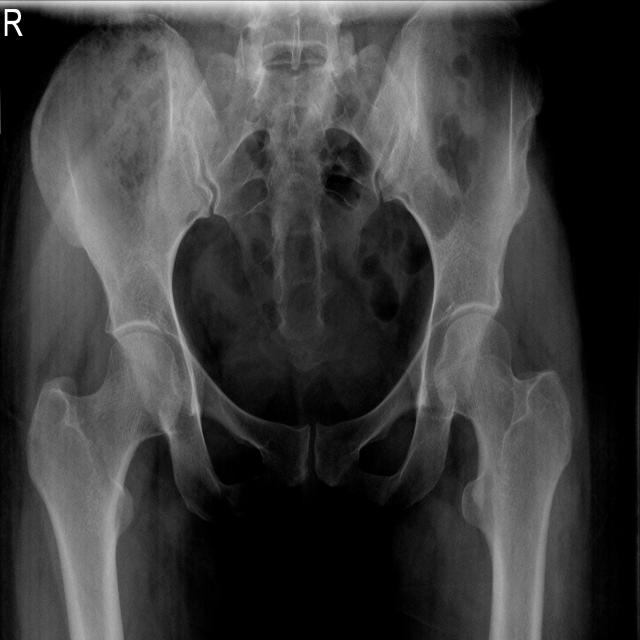normal-left: (433, 313, 573, 640)
normal-right: (26, 331, 184, 640)
